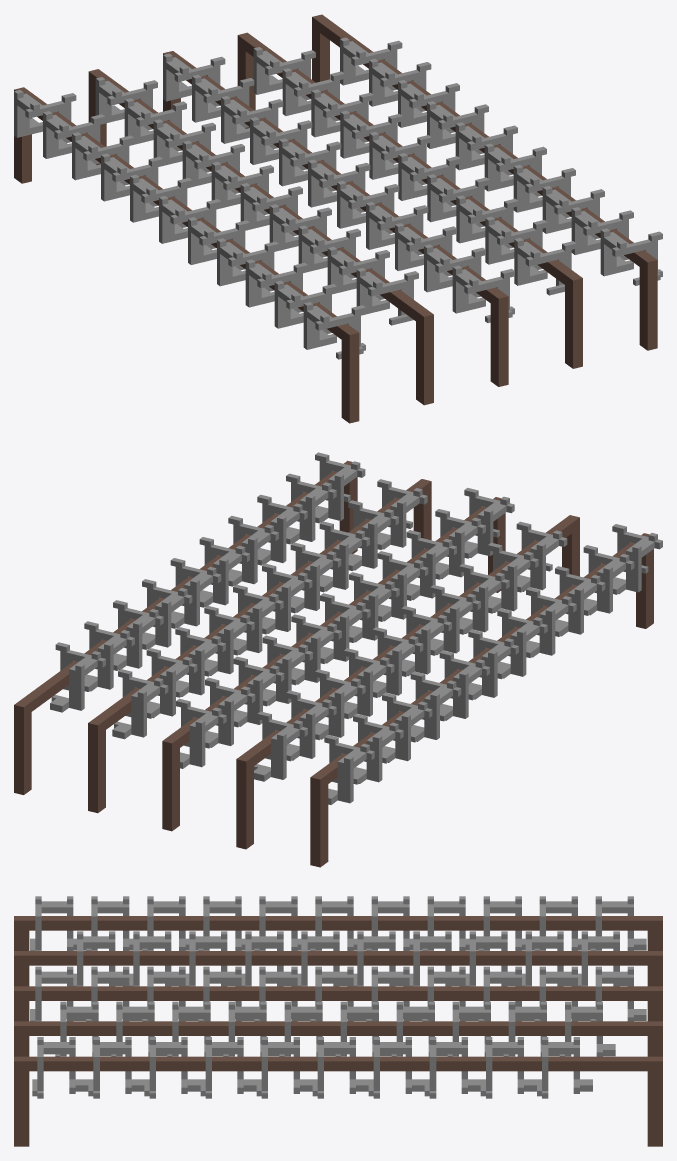
File: trainingWire.fbx
3 views of the same model, one above another, from view 1: azimuth 30°, elevation 25°; view 2: azimuth 150°, elevation 25°; view 3: azimuth 270°, elevation 25° (orthographic). The views are drawn at different scales.
Parts seen in each view (by area): view 1: trainingWire_wire1, trainingWire_wire3, trainingWire_wire4, trainingWire_wire5, trainingWire_wire2, trainingWire_iron5, trainingWire_iron4, trainingWire_iron2, trainingWire_iron1, trainingWire_iron3; view 2: trainingWire_wire1, trainingWire_wire3, trainingWire_wire5, trainingWire_wire4, trainingWire_wire2, trainingWire_iron1, trainingWire_iron4, trainingWire_iron2, trainingWire_iron5, trainingWire_iron3; view 3: trainingWire_wire5, trainingWire_iron5, trainingWire_wire1, trainingWire_wire2, trainingWire_wire3, trainingWire_iron2, trainingWire_iron4, trainingWire_iron3, trainingWire_iron1, trainingWire_wire4.
Boxes of the visible parts, <box> form: trainingWire_wire1: <box>14,90,365,359</box>; trainingWire_wire3: <box>163,53,514,322</box>; trainingWire_wire4: <box>253,47,576,295</box>; trainingWire_wire5: <box>340,37,662,285</box>; trainingWire_wire2: <box>95,77,418,325</box>; trainingWire_iron5: <box>312,14,657,350</box>; trainingWire_iron4: <box>237,32,582,368</box>; trainingWire_iron2: <box>88,69,433,405</box>; trainingWire_iron1: <box>14,87,359,423</box>; trainingWire_iron3: <box>163,51,508,386</box>; trainingWire_wire1: <box>324,524,662,804</box>; trainingWire_wire3: <box>176,487,514,768</box>; trainingWire_wire5: <box>50,452,365,712</box>; trainingWire_wire4: <box>112,479,427,739</box>; trainingWire_wire2: <box>254,521,567,781</box>; trainingWire_iron1: <box>310,533,653,867</box>; trainingWire_iron4: <box>88,479,431,813</box>; trainingWire_iron2: <box>236,515,579,849</box>; trainingWire_iron5: <box>14,460,357,794</box>; trainingWire_iron3: <box>162,497,505,831</box>; trainingWire_wire5: <box>32,1037,592,1098</box>; trainingWire_iron5: <box>14,1056,662,1146</box>; trainingWire_wire1: <box>30,896,646,950</box>; trainingWire_wire2: <box>73,931,627,986</box>; trainingWire_wire3: <box>30,966,646,1021</box>; trainingWire_iron2: <box>14,951,662,986</box>; trainingWire_iron4: <box>14,1021,662,1056</box>; trainingWire_iron3: <box>14,986,662,1021</box>; trainingWire_iron1: <box>14,916,662,950</box>; trainingWire_wire4: <box>55,1001,615,1056</box>.
Size of the model in its own units: 348 by 97.45 by 585.
